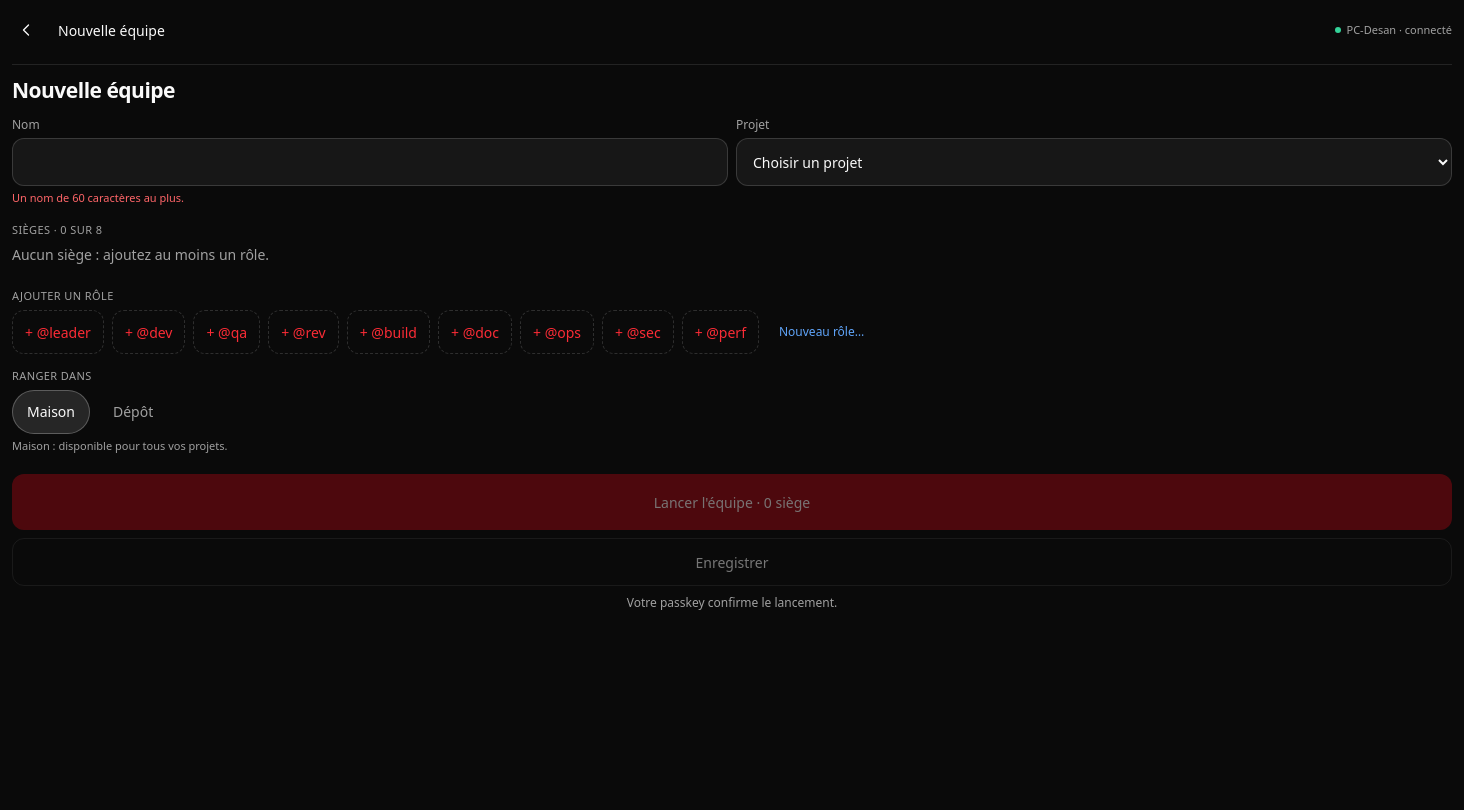
Test case: the team editor, a definition › a Dépôt team with no project picked cannot be saved
In the field labelled "Nom": (370, 162) left=12, top=138, right=728, bottom=186, type "Ma revue"
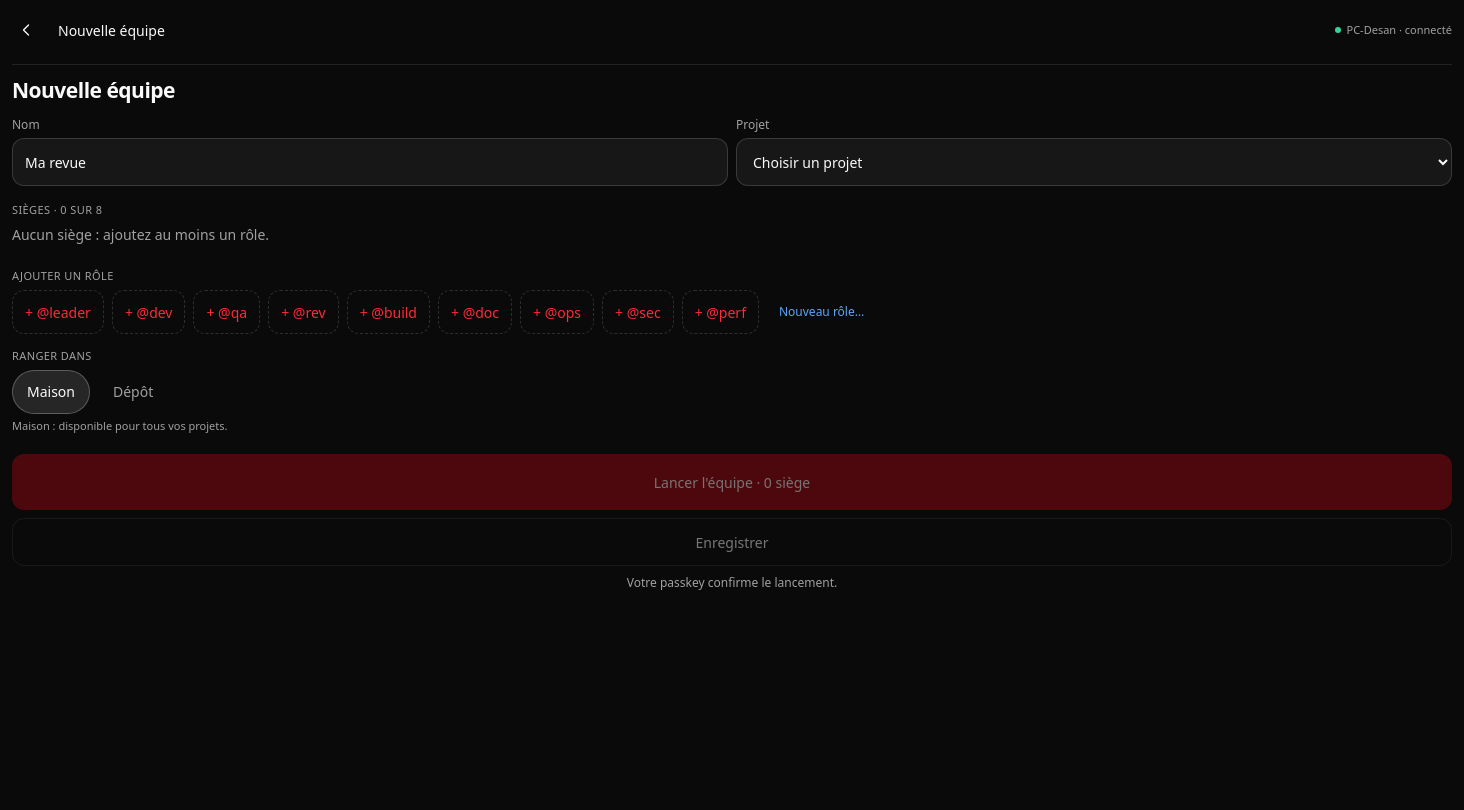
Click the button "+ @qa": (227, 312) left=194, top=290, right=260, bottom=334
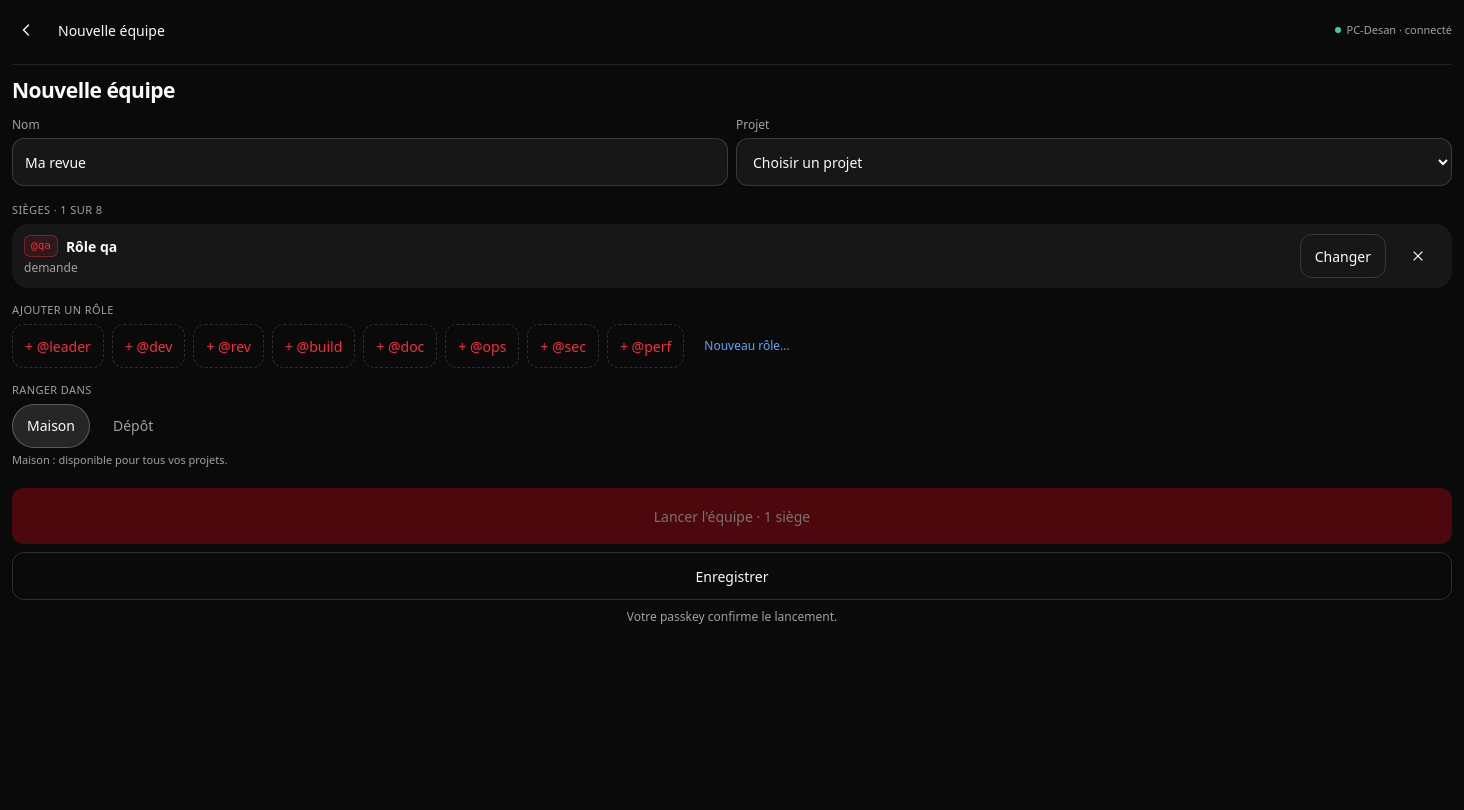
Click the radio button labelled "Dépôt": (133, 426) left=113, top=416, right=153, bottom=435
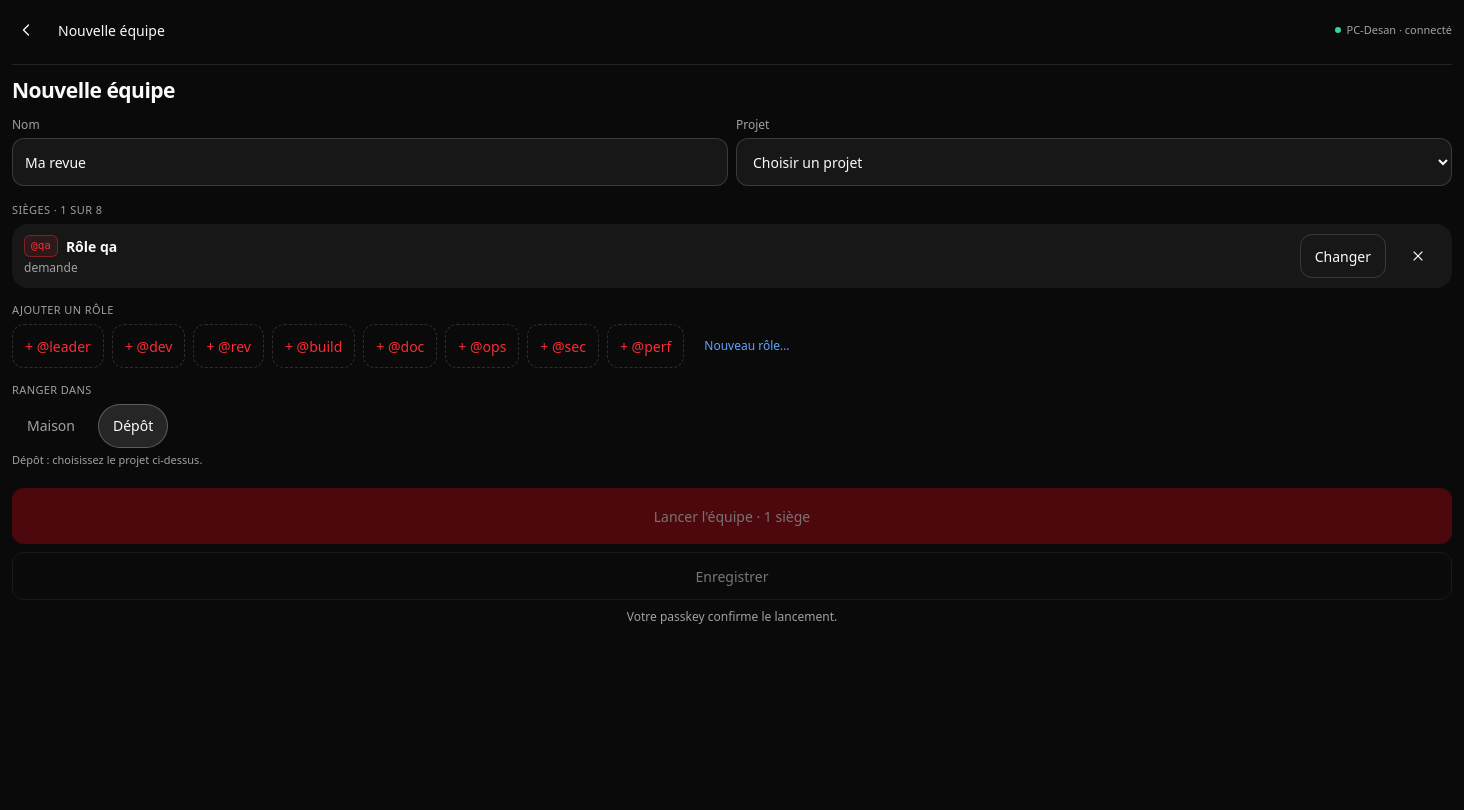
Expected: the button "Enregistrer" is disabled, left=12, top=552, right=1452, bottom=600
Select "ledge" in the dropdown labelled "Projet": (1094, 162) left=736, top=138, right=1452, bottom=186
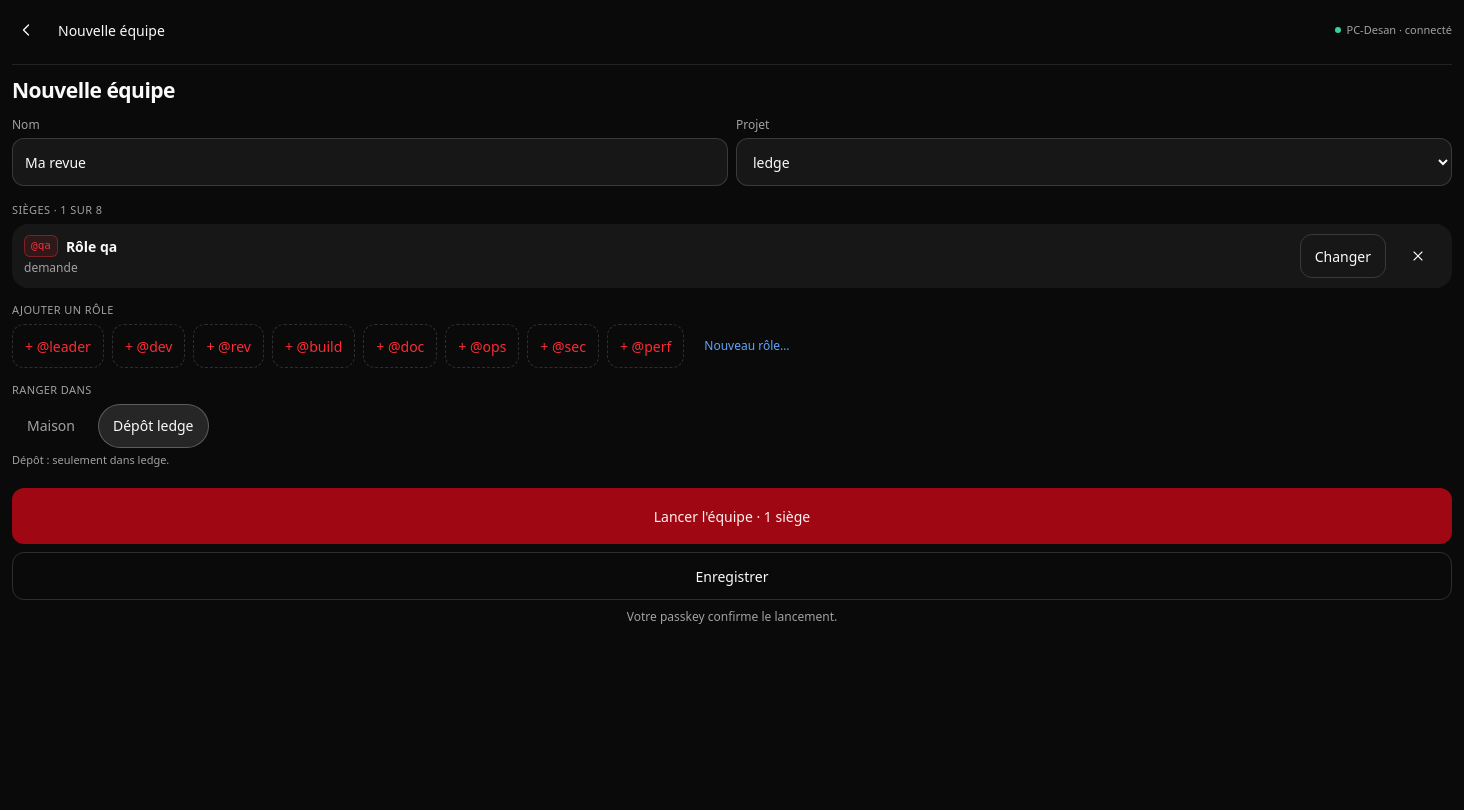
Expected: the button "Enregistrer" is enabled, left=12, top=552, right=1452, bottom=600
